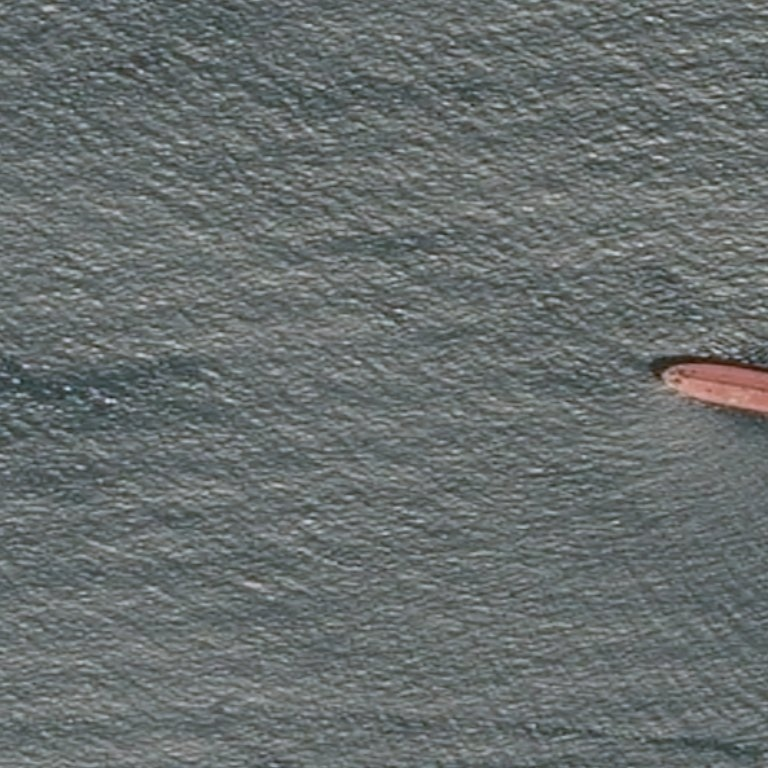ship: (663, 361, 767, 410)
